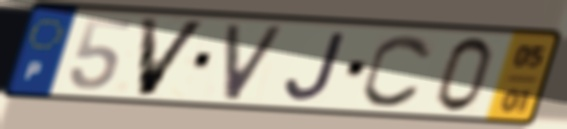0: (434, 35, 496, 114)
5: (67, 16, 136, 93)
C: (359, 31, 437, 110)
J: (283, 29, 350, 103)
V: (135, 15, 212, 99), (220, 22, 288, 103)
